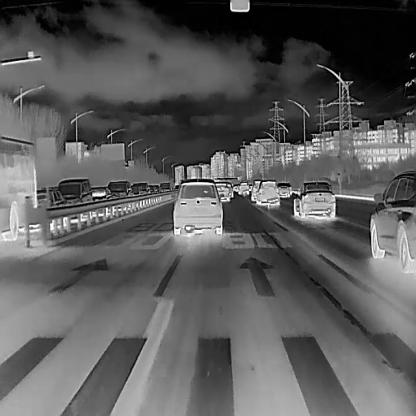bus: (0, 134, 38, 241)
car: (368, 168, 416, 274), (170, 177, 224, 236), (292, 180, 335, 218), (56, 176, 91, 208), (34, 185, 64, 214), (254, 180, 280, 205), (106, 179, 133, 200), (90, 184, 111, 205), (214, 180, 230, 202), (250, 178, 262, 201), (276, 181, 289, 197), (237, 180, 250, 196), (130, 182, 142, 199), (158, 180, 171, 192), (148, 184, 157, 195)
